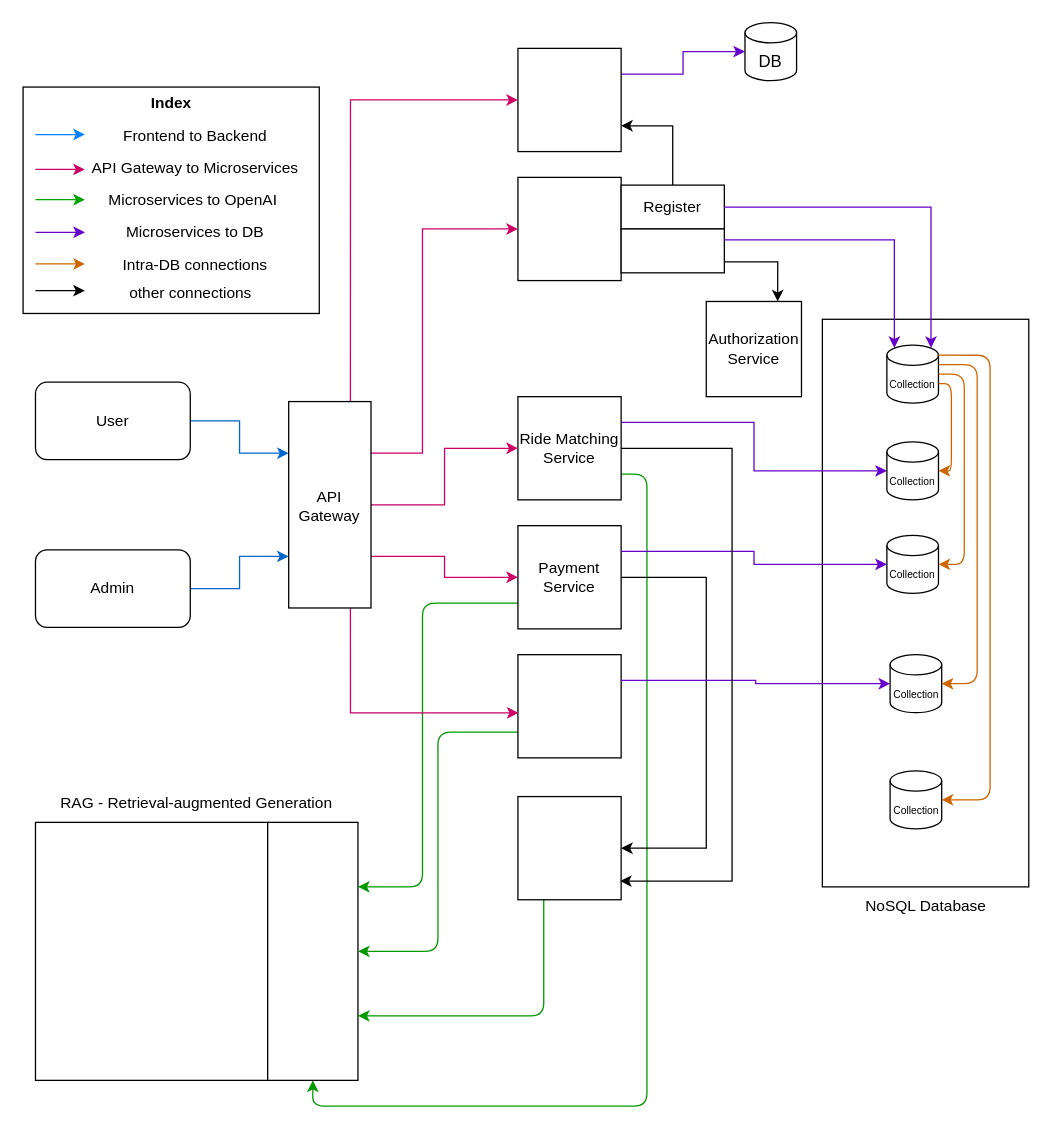
The diagram is 1051 pixels wide and 1139 high, and some of its shapes have lost their labels. The shapes that lost their labels are listed below. From the top down, each one's box as (x1, y1, x2, y2) in pixels, then its label:
(517, 47, 621, 152): Data Manipulation Service
(517, 176, 621, 281): Authentication Service
(620, 228, 724, 273): Login
(517, 653, 621, 758): Feedback Service
(517, 795, 621, 900): Notification Service
(34, 821, 268, 1080): OpenAI's Model accessed using API
(266, 821, 358, 1080): Llama-Index
